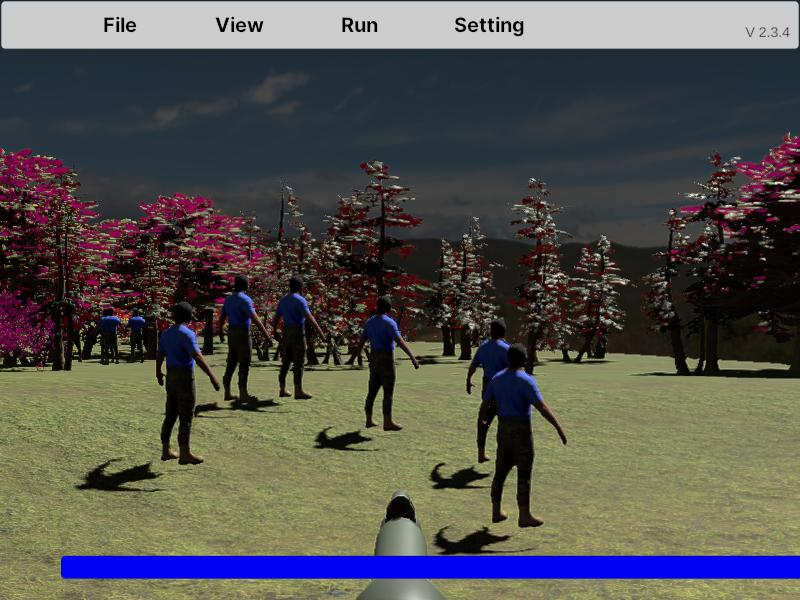Human: (476, 342, 567, 530), (156, 300, 219, 466), (465, 317, 528, 462), (357, 295, 418, 432), (218, 274, 269, 404), (272, 275, 324, 399)
